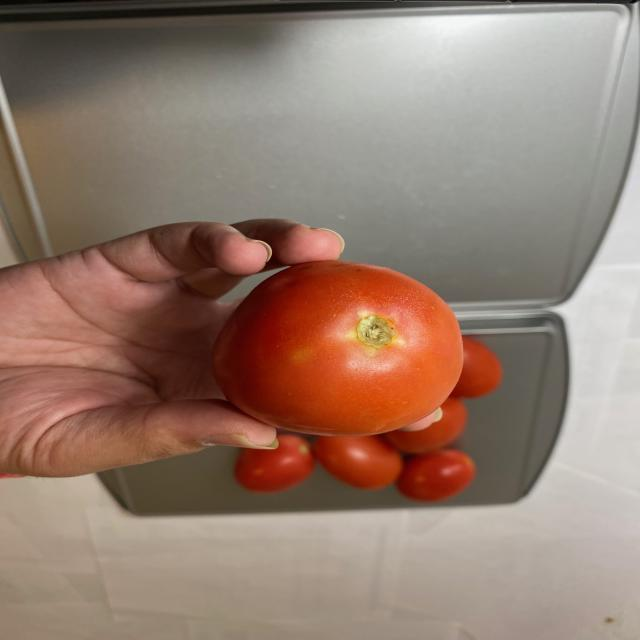tomato: (208, 264, 472, 436)
